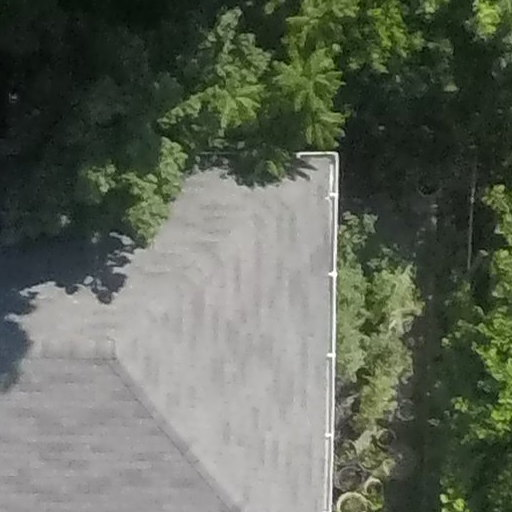container: (330, 463, 367, 493), (332, 432, 366, 464), (412, 171, 447, 200), (339, 486, 377, 512), (358, 445, 388, 472), (362, 473, 392, 495), (395, 397, 421, 421), (371, 426, 398, 448)
